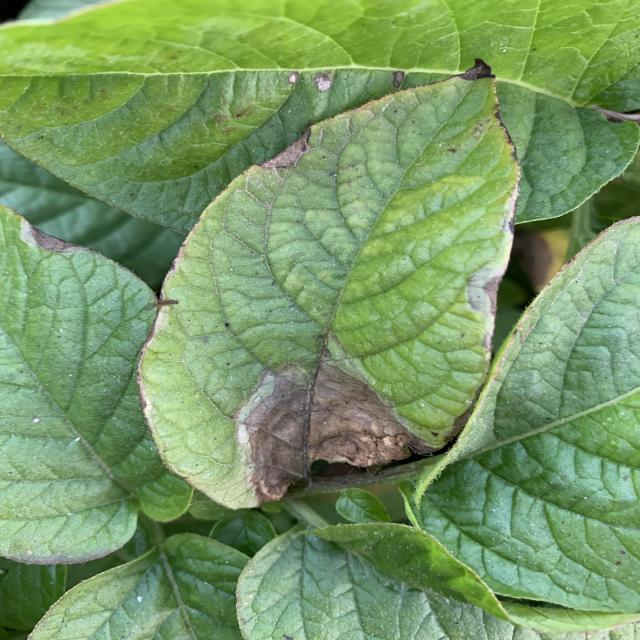lateblight: (233, 361, 413, 504), (0, 206, 90, 254), (255, 128, 312, 170), (465, 268, 505, 320), (455, 59, 495, 80)
